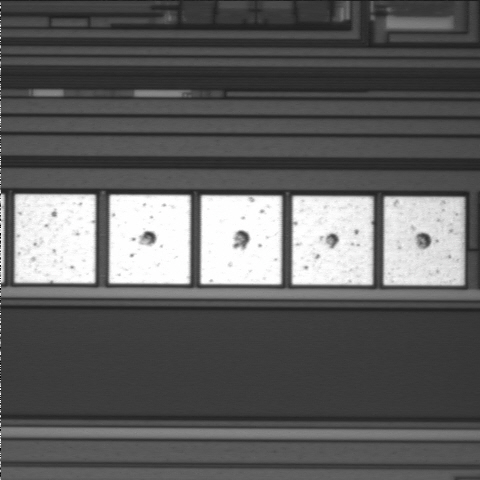pad: (200, 195, 282, 285), (15, 194, 96, 283), (109, 195, 190, 284), (292, 196, 373, 285), (384, 197, 464, 285)
